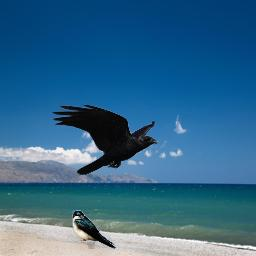Crow: (51, 103, 160, 175)
Swallow: (72, 210, 116, 249)
